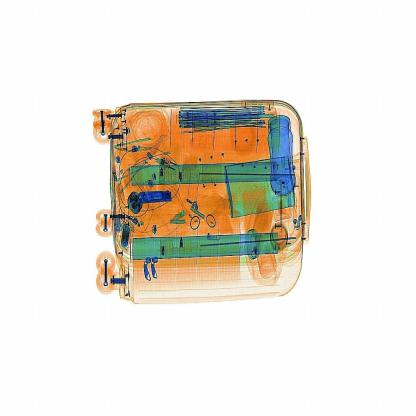knife: (130, 185, 172, 211)
